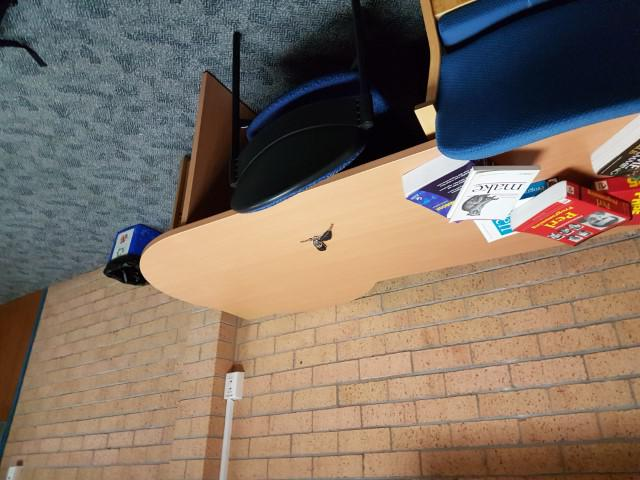key: (321, 221, 336, 241)
